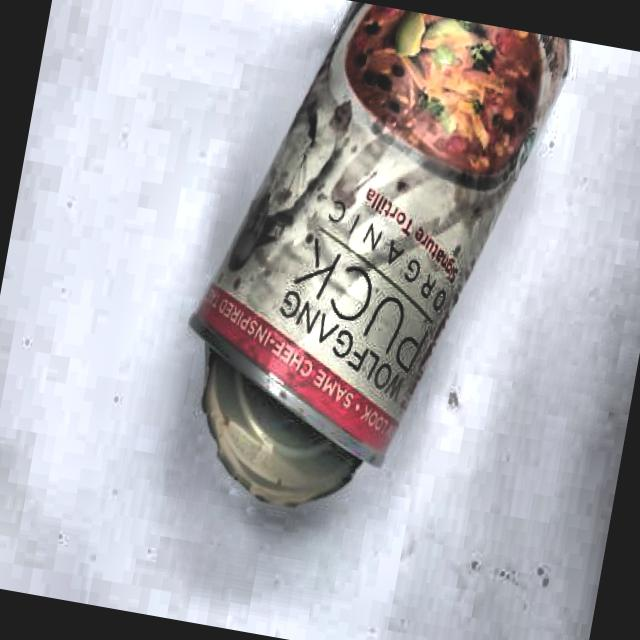metal: (168, 0, 566, 513)
